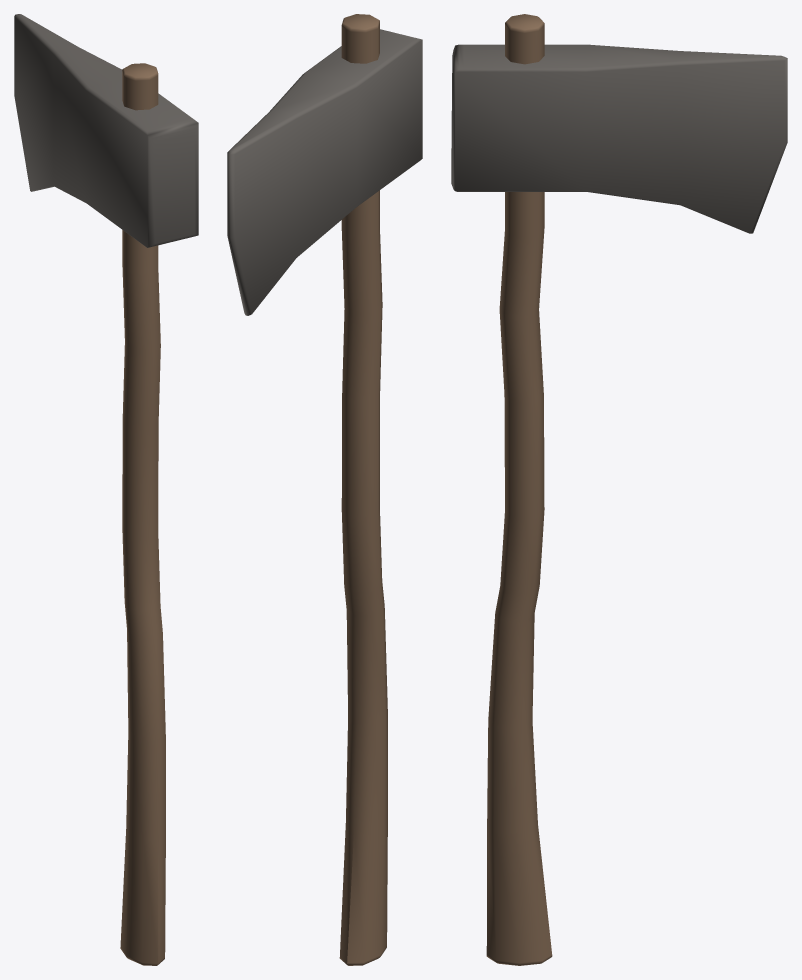
File: axe.fbx
The picture shows the model from 3 angles, left to right: view 1: azimuth 30°, elevation 25°; view 2: azimuth 150°, elevation 25°; view 3: azimuth 270°, elevation 25°; orthographic projection. The views are drawn at different scales.
Parts seen in each view (by area): view 1: Shaft, AxeHead; view 2: Shaft, AxeHead; view 3: AxeHead, Shaft.
Boxes of the visible parts, left/top/right/bottom form: Shaft: left=120, top=63, right=165, bottom=965; AxeHead: left=14, top=14, right=198, bottom=247; Shaft: left=339, top=14, right=387, bottom=965; AxeHead: left=227, top=29, right=422, bottom=315; AxeHead: left=451, top=44, right=787, bottom=233; Shaft: left=486, top=14, right=552, bottom=965.
Bounding box in the file's own units: 4.77 × 78.58 × 25.55.
